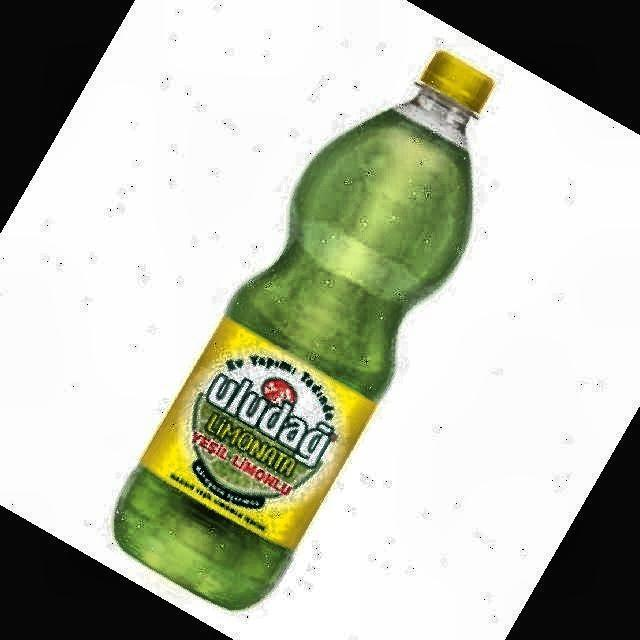plastic: (114, 51, 494, 609)
